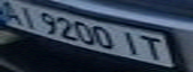0: (93, 24, 118, 52), (72, 20, 96, 47)
2: (54, 15, 75, 43)
9: (33, 9, 60, 35)
A: (0, 0, 27, 25)
I: (115, 28, 145, 56), (12, 3, 42, 29)
T: (136, 33, 169, 62)
